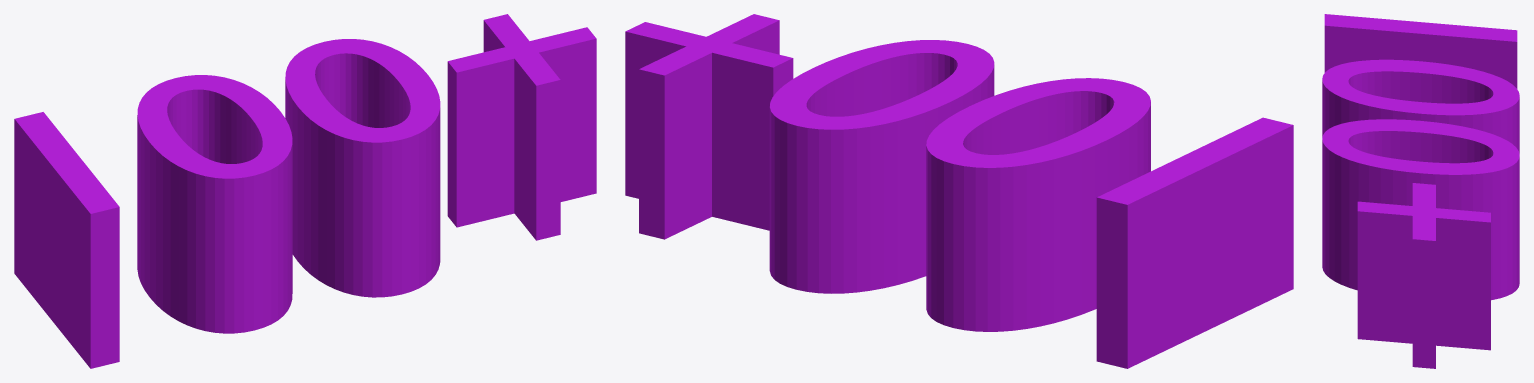
The model's file is powerup_100.fbx.
3 renders of one model, left to right at view 1: azimuth 30°, elevation 25°; view 2: azimuth 150°, elevation 25°; view 3: azimuth 270°, elevation 25°, orthographic. The views are drawn at different scales.
Visible parts, largest first — view 1: powerup_100+.001; view 2: powerup_100+.001; view 3: powerup_100+.001.
Boxes of the visible parts, x1=… form: powerup_100+.001: x1=14, y1=14, x2=596, y2=368; powerup_100+.001: x1=625, y1=14, x2=1293, y2=368; powerup_100+.001: x1=1322, y1=14, x2=1519, y2=368.
Bounding box in the file's own units: 190 × 50 × 70.
